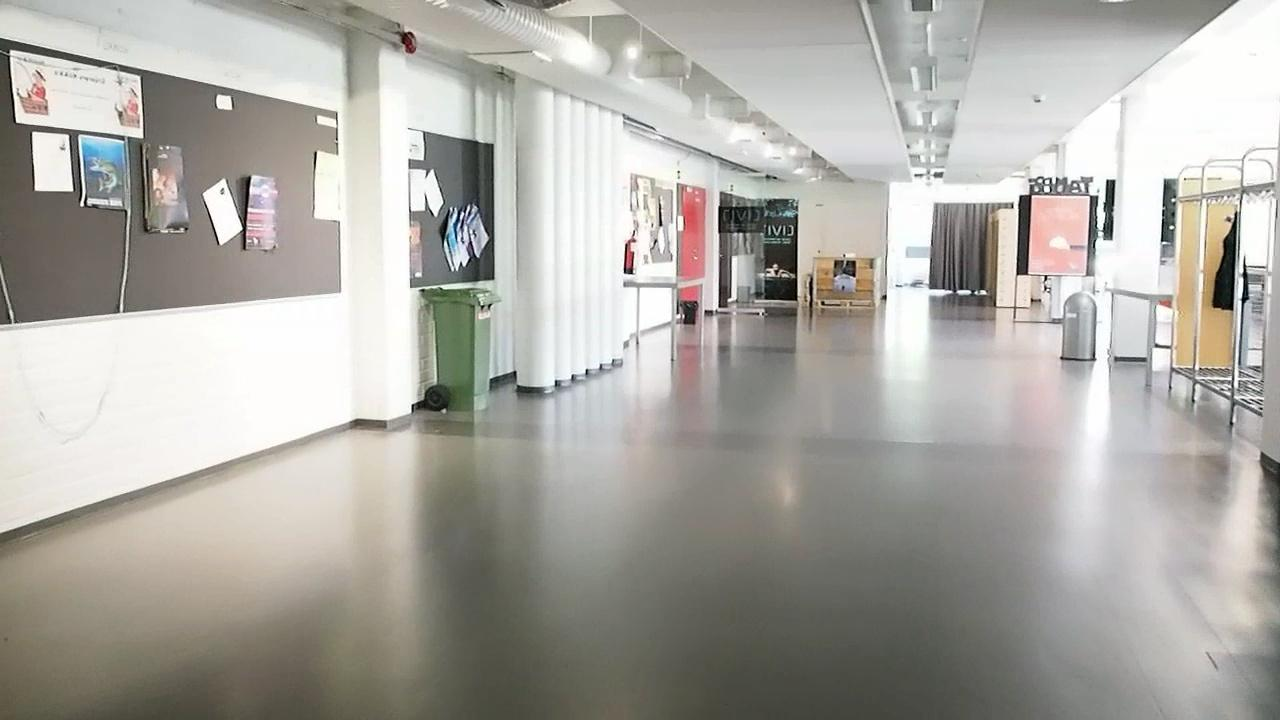trashbin: (417, 278, 494, 409)
